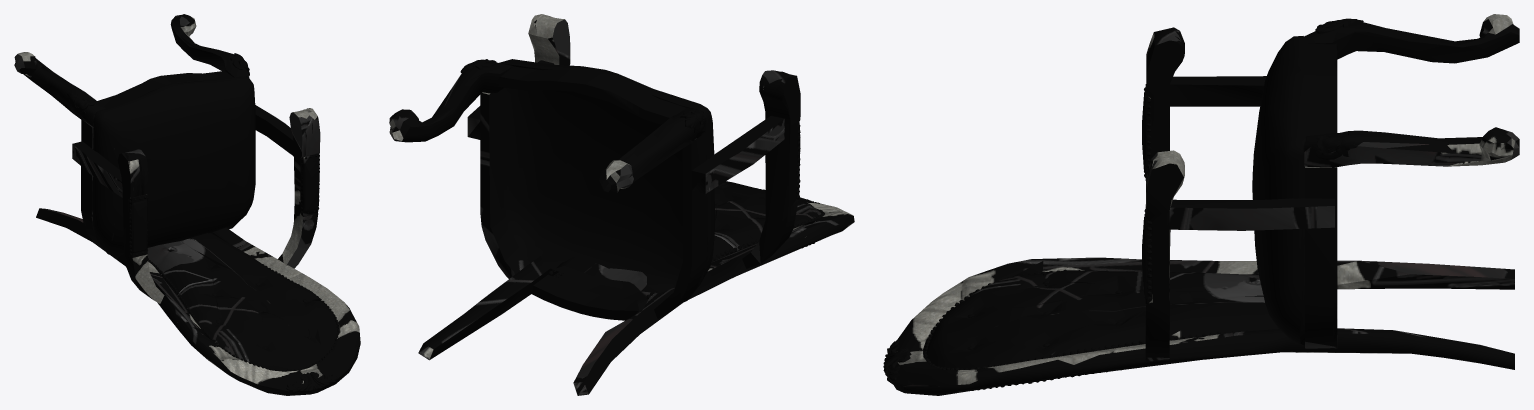
The picture shows the model from 3 angles, left to right: view 1: azimuth 30°, elevation 25°; view 2: azimuth 150°, elevation 25°; view 3: azimuth 270°, elevation 25°; orthographic projection. The views are drawn at different scales.
Bounding box in the file's own units: 0.4754 × 0.4958 × 0.9418.
